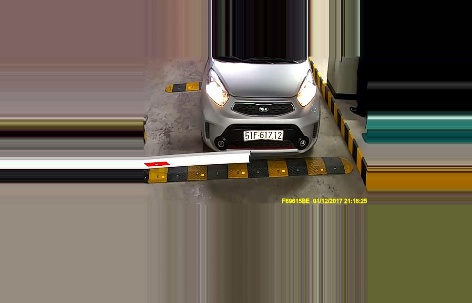plate: (239, 127, 288, 145)
